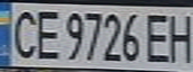2: (103, 9, 124, 63)
6: (121, 9, 148, 63)
7: (81, 8, 106, 62)
9: (60, 8, 84, 61)
C: (3, 6, 42, 61)
E: (142, 10, 178, 64), (30, 6, 63, 61)
H: (163, 10, 193, 63)
